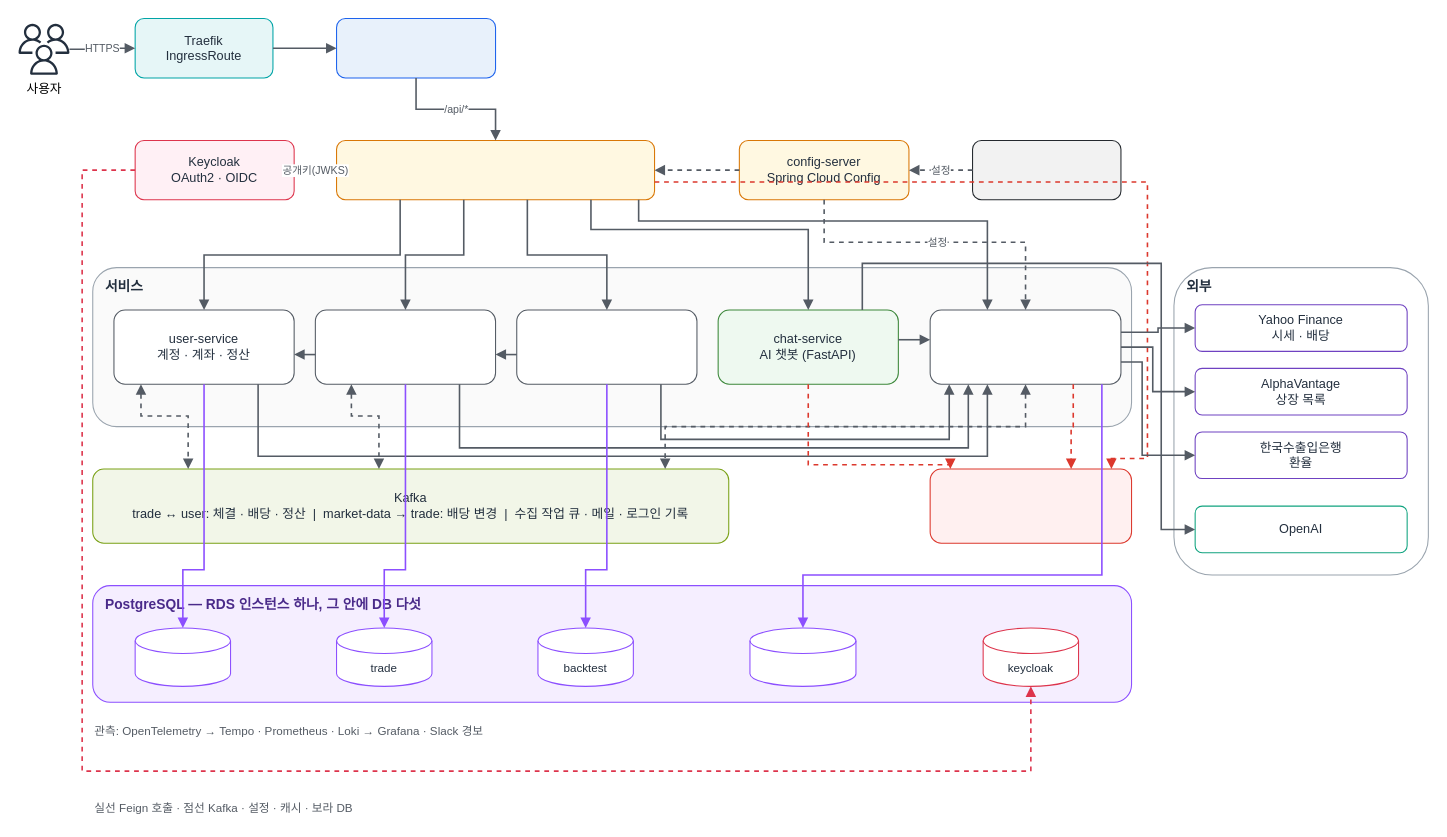
Some shapes in this 1447 by 837 pixel diagram are drawn without their labels. Each missing label, with the centre of its shape:
backtest-service 전략 · 비교: the point at 606,346
frontend-web React · Vite: the point at 415,47
gateway-server JWT · 레이트리밋 · 서킷: the point at 495,169
GitHub ggeolmuse-config: the point at 1046,169
market: the point at 802,656
market-data-service 시세 · 배당 · 환율 수집: the point at 1025,346
Redis 시세 캐시 · 레이트리밋 · 잠금: the point at 1030,505
trade-service 매수 · 매도 · 보유: the point at 405,346
user: the point at 182,656
